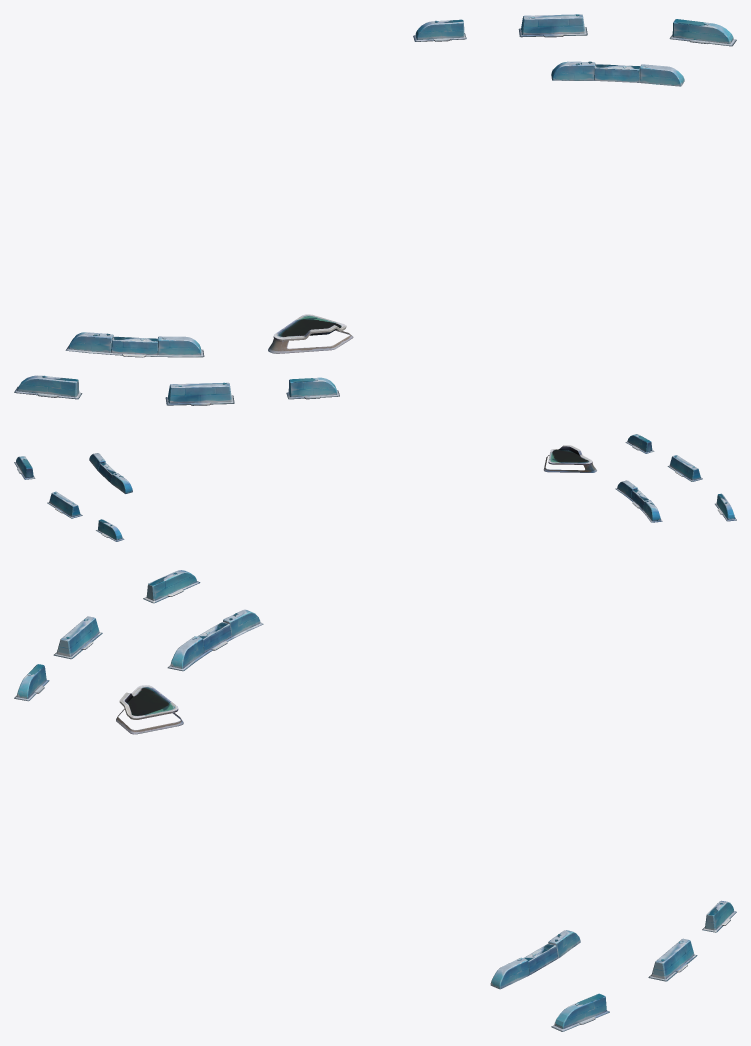
Rendered from pref_sm_beach_winter_bakegroups09_lv2.fbx.
3 renders of one model, top to bottom at view 1: azimuth 30°, elevation 25°; view 2: azimuth 150°, elevation 25°; view 3: azimuth 270°, elevation 25°, orthographic. The views are drawn at different scales.
Visible parts, largest first — view 1: sm_beach_winter_bakegroups09_a_lv2, sm_beach_winter_bakegroups09_c_lv2; view 2: sm_beach_winter_bakegroups09_a_lv2, sm_beach_winter_bakegroups09_c_lv2; view 3: sm_beach_winter_bakegroups09_a_lv2, sm_beach_winter_bakegroups09_c_lv2.
Boxes of the visible parts, bbox=[...] form: sm_beach_winter_bakegroups09_a_lv2: bbox=[14, 314, 353, 405]; sm_beach_winter_bakegroups09_c_lv2: bbox=[413, 14, 736, 86]; sm_beach_winter_bakegroups09_a_lv2: bbox=[543, 434, 736, 522]; sm_beach_winter_bakegroups09_c_lv2: bbox=[14, 453, 132, 541]; sm_beach_winter_bakegroups09_a_lv2: bbox=[14, 570, 263, 734]; sm_beach_winter_bakegroups09_c_lv2: bbox=[490, 900, 736, 1031].
Size of the model in its own units: 108 by 2.17 by 73.09.
1 material, 1 textured.
